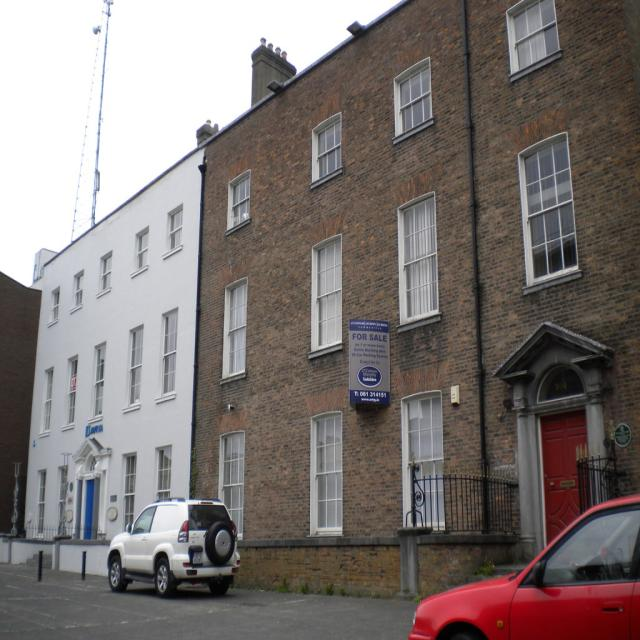car: (101, 502, 237, 600)
